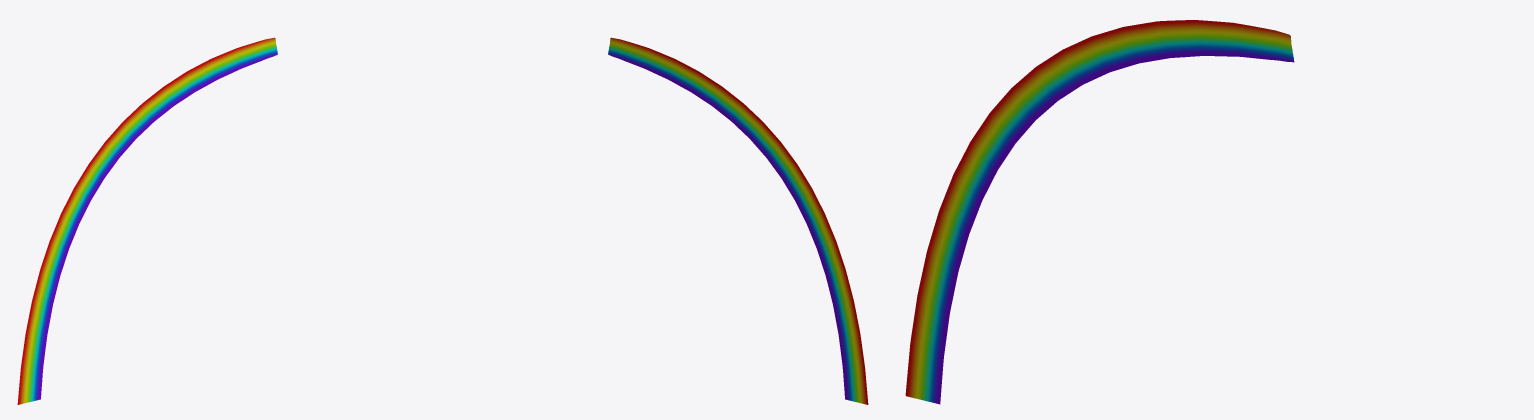
File: M_caihong01.FBX
3 views of the same model, side by side, from view 1: azimuth 30°, elevation 25°; view 2: azimuth 150°, elevation 25°; view 3: azimuth 330°, elevation 25° (orthographic). The views are drawn at different scales.
Parts seen in each view (by area): view 1: M_caihong01; view 2: M_caihong01; view 3: M_caihong01.
Part boxes in pixels (bbox=[...]): M_caihong01: bbox=[17, 37, 277, 404]; M_caihong01: bbox=[608, 37, 868, 404]; M_caihong01: bbox=[905, 20, 1294, 404].
Size of the model in its own units: 60.55 by 43.37 by 1.1e-05.
